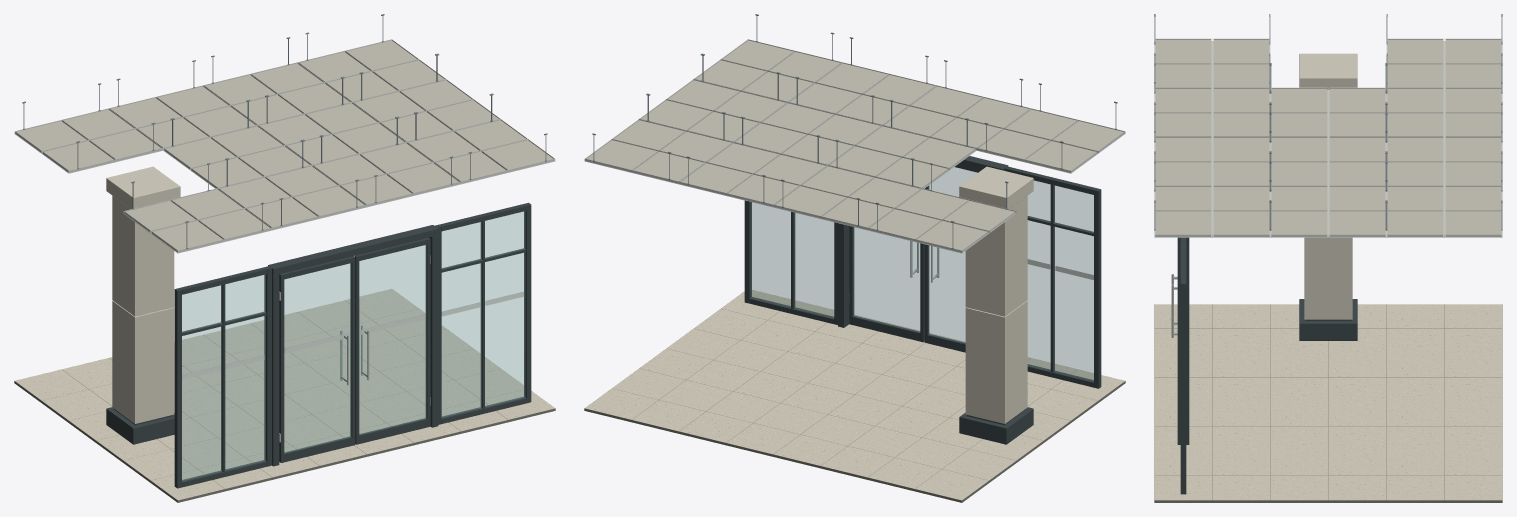
Rendered from fit-study.glb.
3 views of the same model, side by side, from view 1: azimuth 30°, elevation 25°; view 2: azimuth 150°, elevation 25°; view 3: azimuth 270°, elevation 25° (orthographic). The views are drawn at different scales.
Visible parts, largest first — view 1: GLASS_Right, GLASS_Left, GLASS_Right_Lower, GLASS_Right_Lower.001, GLASS_Left_Lower.001, GLASS_Left_Lower, CLADDING_Front_Lower, CLADDING_Front_Upper, CLADDING_Left_Lower, CLADDING_Left_Upper, CAP_Square, FRAME_Header (+111 smaller); view 2: GLASS_Right, GLASS_Left_Lower, CLADDING_Back_Lower, GLASS_Left, GLASS_Left_Lower.001, GLASS_Right_Lower.001, GLASS_Right_Lower, CLADDING_Back_Upper, CLADDING_Left_Lower, CLADDING_Left_Upper, CAP_Square, POST_Left (+98 smaller); view 3: CLADDING_Right_Lower, CAP_Square, FRAME_Jamb_Right, POST_Right.001, MODULE_Tile_3, MODULE_Tile_1.002, MODULE_Tile_3.002, MODULE_Tile_3.003, MODULE_Tile_1.004, MODULE_Tile_3.004, MODULE_Tile_1.005, MODULE_Tile_3.005 (+88 smaller).
Part boxes in pixels (x1=…): GLASS_Right: x1=359, y1=245, x2=426, y2=434; GLASS_Left: x1=284, y1=263, x2=350, y2=452; GLASS_Right_Lower: x1=225, y1=316, x2=265, y2=470; GLASS_Right_Lower.001: x1=485, y1=252, x2=525, y2=407; GLASS_Left_Lower.001: x1=442, y1=263, x2=481, y2=417; GLASS_Left_Lower: x1=182, y1=326, x2=221, y2=480; CLADDING_Front_Lower: x1=134, y1=307, x2=174, y2=423; CLADDING_Front_Upper: x1=134, y1=222, x2=174, y2=316; CLADDING_Left_Lower: x1=113, y1=301, x2=134, y2=422; CLADDING_Left_Upper: x1=113, y1=196, x2=134, y2=315; CAP_Square: x1=106, y1=166, x2=180, y2=209; FRAME_Header: x1=268, y1=225, x2=438, y2=275; GLASS_Right: x1=853, y1=227, x2=919, y2=332; GLASS_Left_Lower: x1=1054, y1=227, x2=1093, y2=380; CLADDING_Back_Lower: x1=965, y1=307, x2=1005, y2=423; GLASS_Left: x1=928, y1=167, x2=976, y2=343; GLASS_Left_Lower.001: x1=794, y1=213, x2=833, y2=317; GLASS_Right_Lower.001: x1=751, y1=202, x2=790, y2=307; GLASS_Right_Lower: x1=1027, y1=220, x2=1050, y2=370; CLADDING_Back_Upper: x1=965, y1=222, x2=1005, y2=316; CLADDING_Left_Lower: x1=1005, y1=301, x2=1026, y2=422; CLADDING_Left_Upper: x1=1005, y1=196, x2=1026, y2=315; CAP_Square: x1=959, y1=166, x2=1033, y2=209; POST_Left: x1=1094, y1=188, x2=1101, y2=388; CLADDING_Right_Lower: x1=1306, y1=237, x2=1350, y2=319; CAP_Square: x1=1299, y1=53, x2=1357, y2=89; FRAME_Jamb_Right: x1=1177, y1=242, x2=1189, y2=444; POST_Right.001: x1=1180, y1=281, x2=1186, y2=494; MODULE_Tile_3: x1=1212, y1=304, x2=1270, y2=328; MODULE_Tile_1.002: x1=1386, y1=304, x2=1444, y2=328; MODULE_Tile_3.002: x1=1444, y1=304, x2=1502, y2=328; MODULE_Tile_3.003: x1=1212, y1=353, x2=1270, y2=377; MODULE_Tile_1.004: x1=1270, y1=353, x2=1328, y2=377; MODULE_Tile_3.004: x1=1328, y1=353, x2=1386, y2=377; MODULE_Tile_1.005: x1=1386, y1=353, x2=1444, y2=377; MODULE_Tile_3.005: x1=1444, y1=353, x2=1502, y2=377.
Size of the model in its own units: 4.8 by 3.39 by 3.6.
104 materials, 23 textured.
